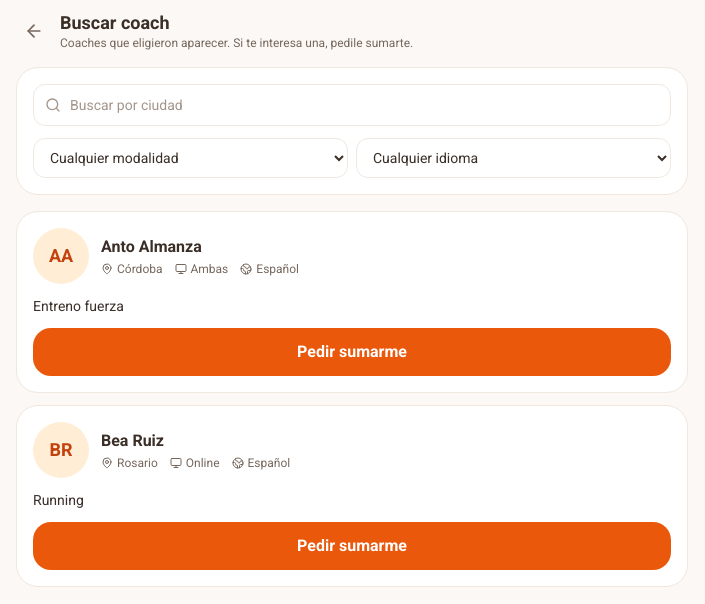
it: CoachDirectoryPage › lista y filtra por ciudad
Expected: the text "Anto Almanza" is shown, [101, 236, 202, 256]
Type "rosario" into the field labelled "Buscar por ciudad" at point(352, 104), box [33, 84, 671, 126]
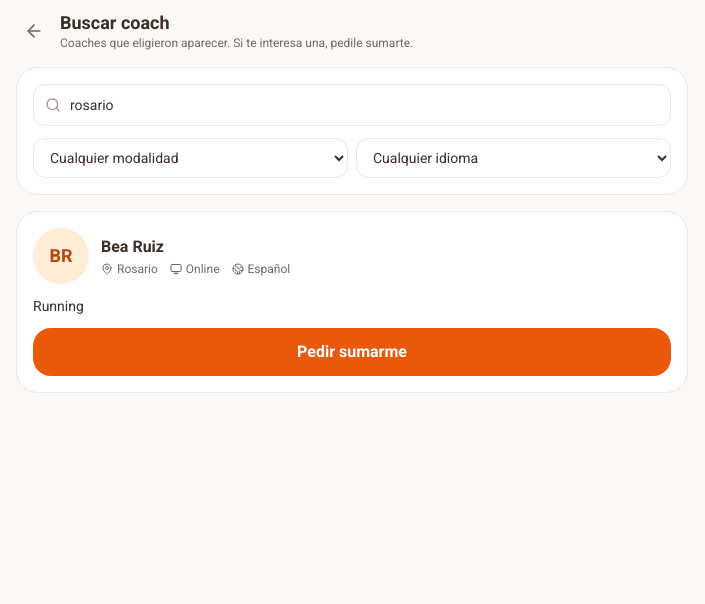
Expected: the text "Bea Ruiz" is shown, [101, 236, 164, 256]
Now the text "Anto Almanza" is gone
